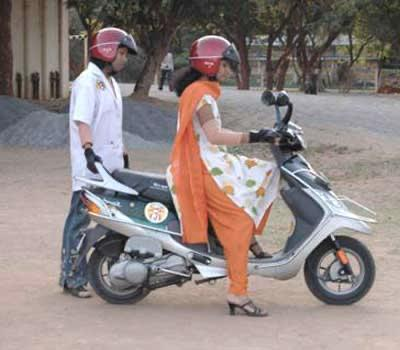With Helmet: (184, 31, 245, 89), (83, 25, 144, 79)
